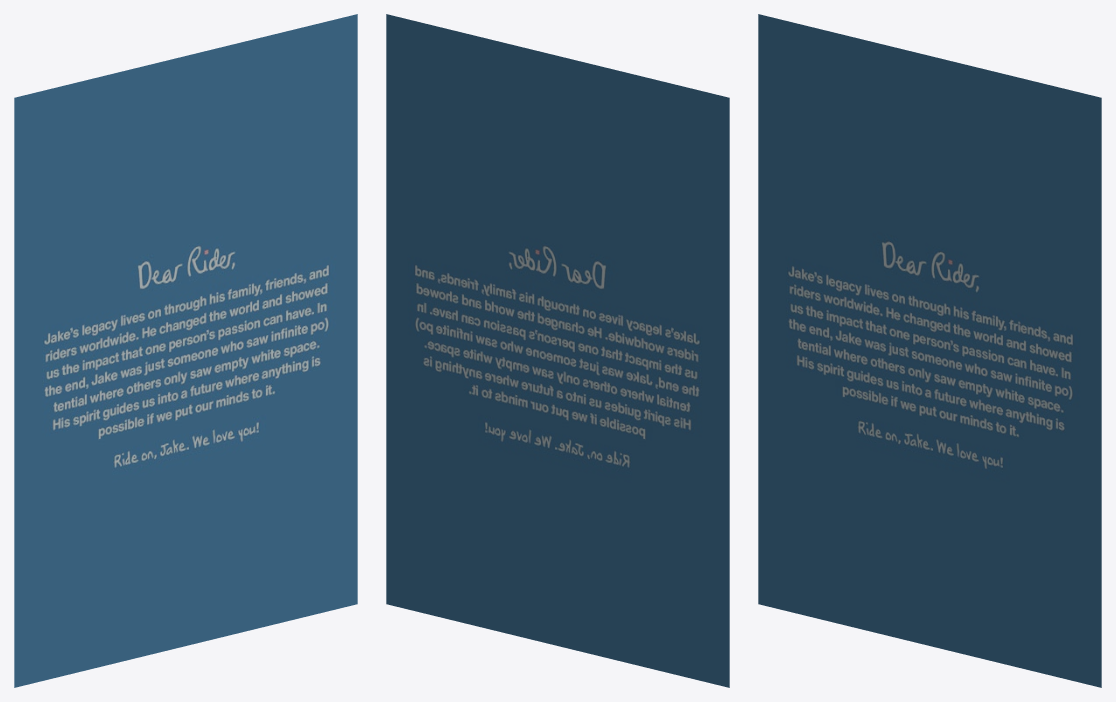
File: DearRiderOutro1.gltf
3 renders of one model, left to right at view 1: azimuth 30°, elevation 25°; view 2: azimuth 150°, elevation 25°; view 3: azimuth 330°, elevation 25°, orthographic.
Visible parts, largest first — view 1: Plane; view 2: Plane; view 3: Plane.
Part boxes in pixels (left/top/right/bottom): Plane: left=14, top=14, right=357, bottom=687; Plane: left=386, top=14, right=729, bottom=687; Plane: left=758, top=14, right=1101, bottom=687.
Bounding box in the file's own units: 98.2 × 161 × 1.2e-14.
Materials: 1 (1 with a texture image).
